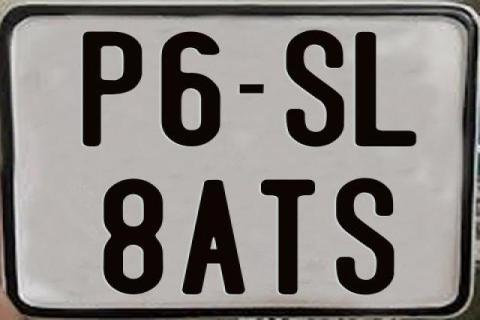0: (161, 31, 223, 149), (101, 178, 163, 296)
A: (182, 178, 250, 294)
L: (353, 31, 419, 147)
P: (80, 30, 145, 150)
S: (334, 177, 398, 297), (286, 28, 344, 148)
T: (260, 177, 317, 293)
